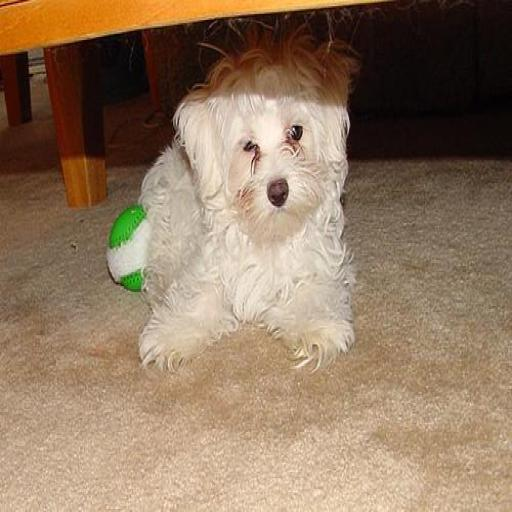dog_face: (182, 39, 352, 235)
